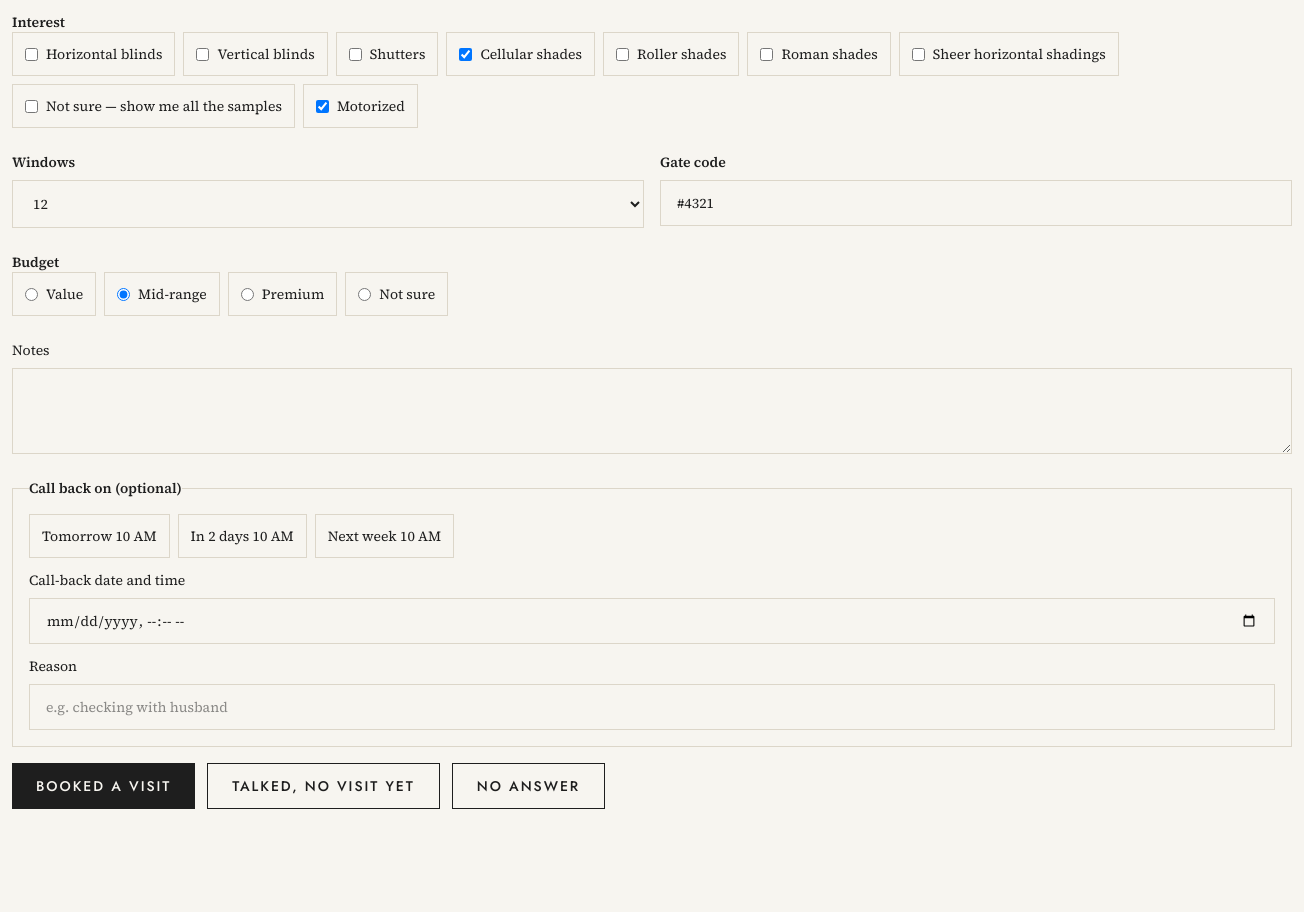
CallForm › asks for the visit time before saving a booked visit
Expected: the field labelled "Visit date and time" is not shown
Click the button "Booked a visit": (104, 786) [12, 763, 195, 809]
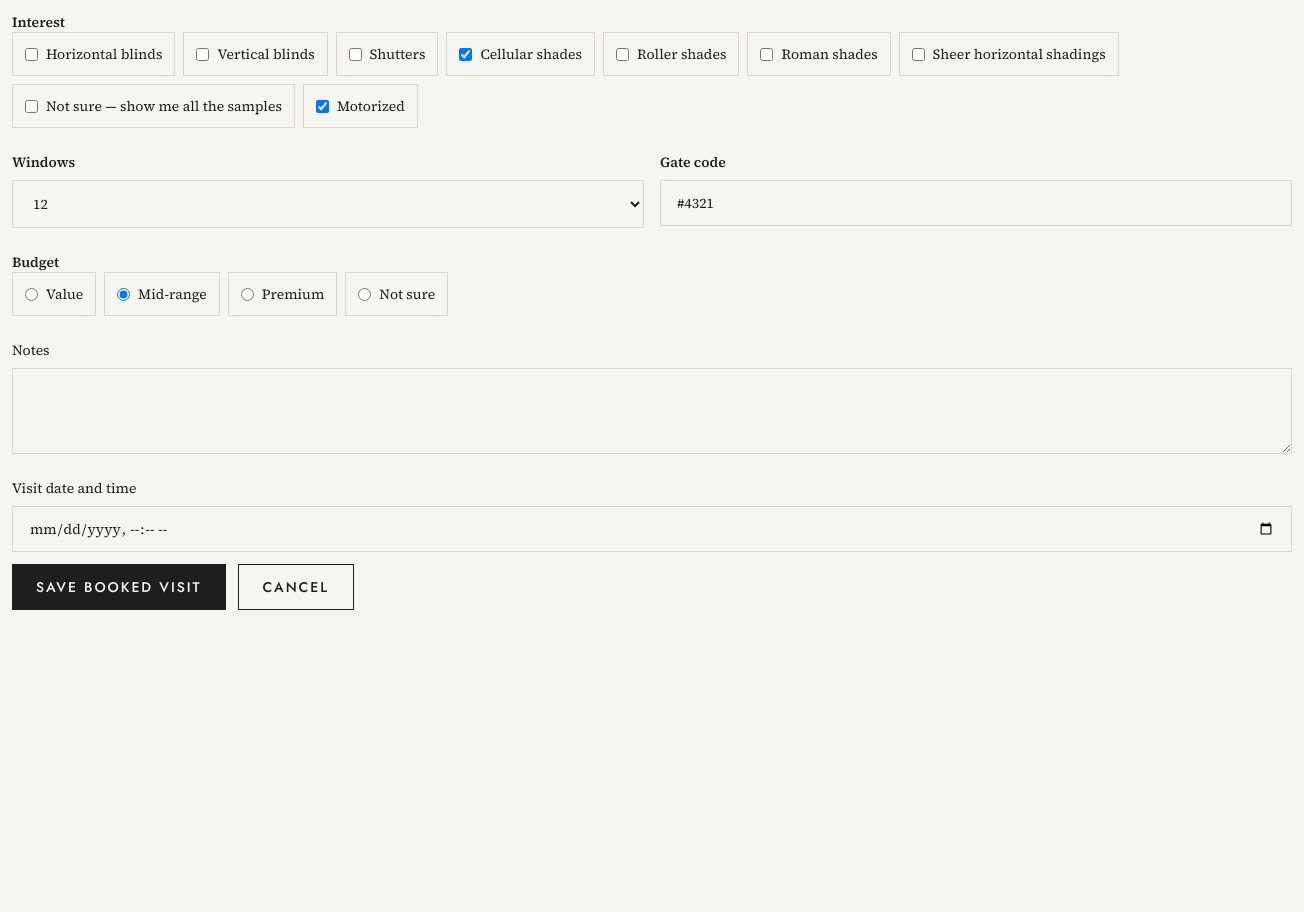
Click the button "Cancel": (296, 587) [238, 564, 354, 610]
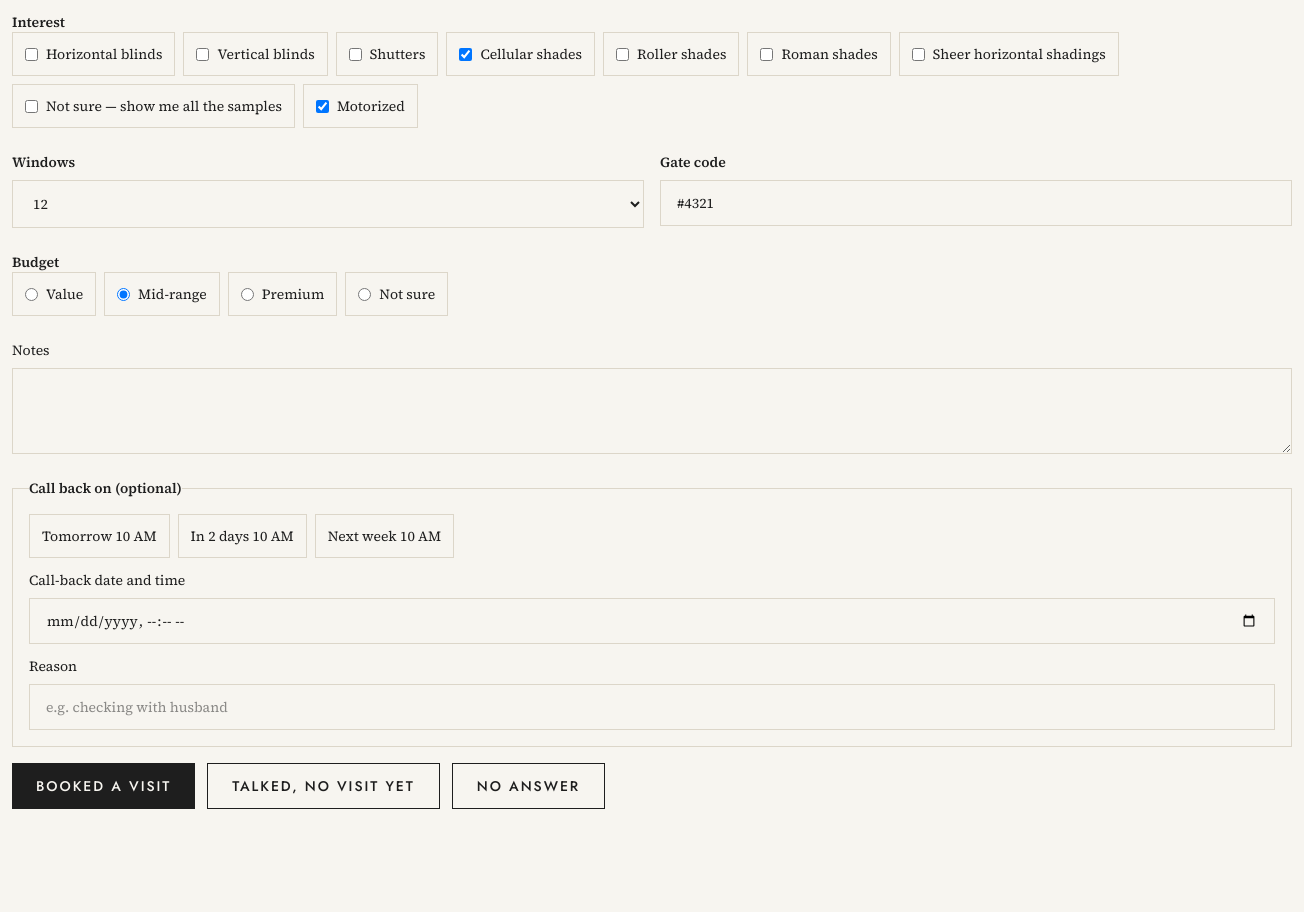
Now the label labelled "Visit date and time" is gone
